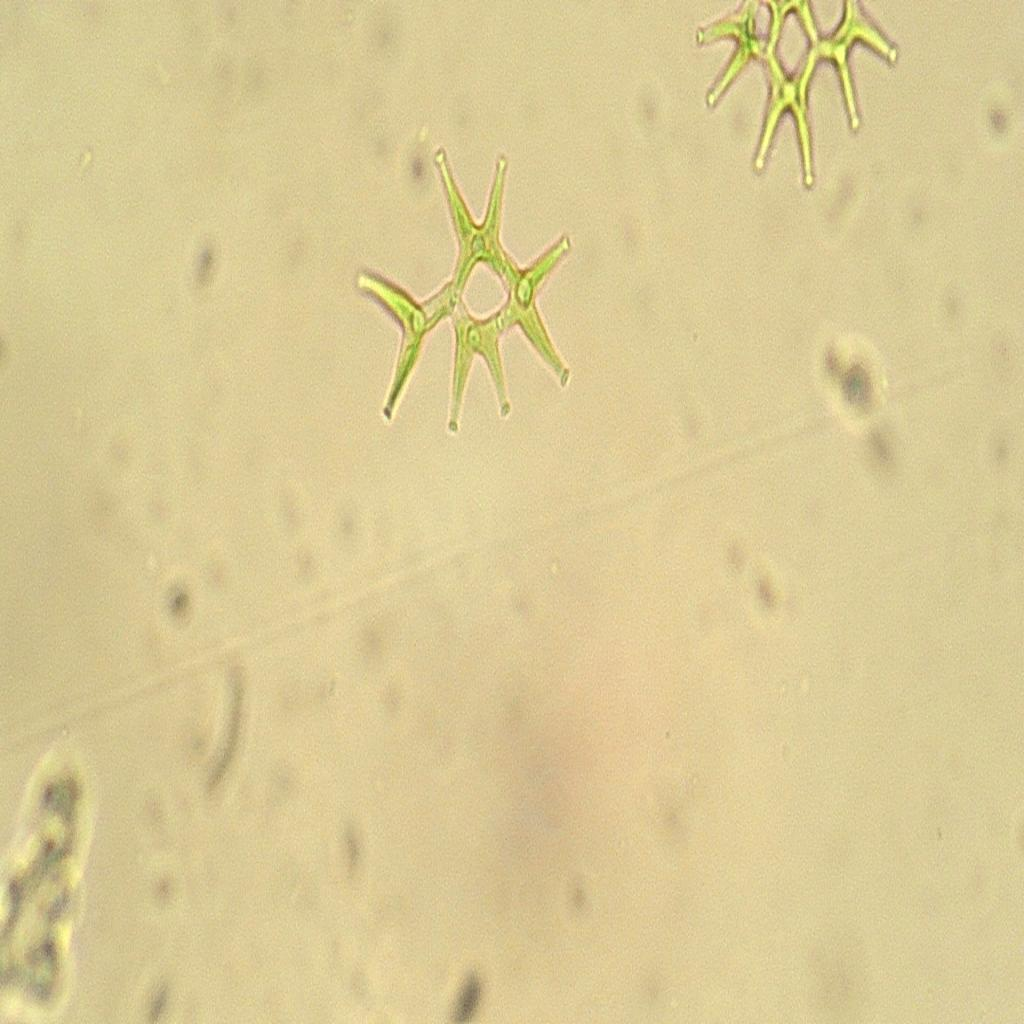Pediastrum_75FI: (345, 132, 600, 448)
